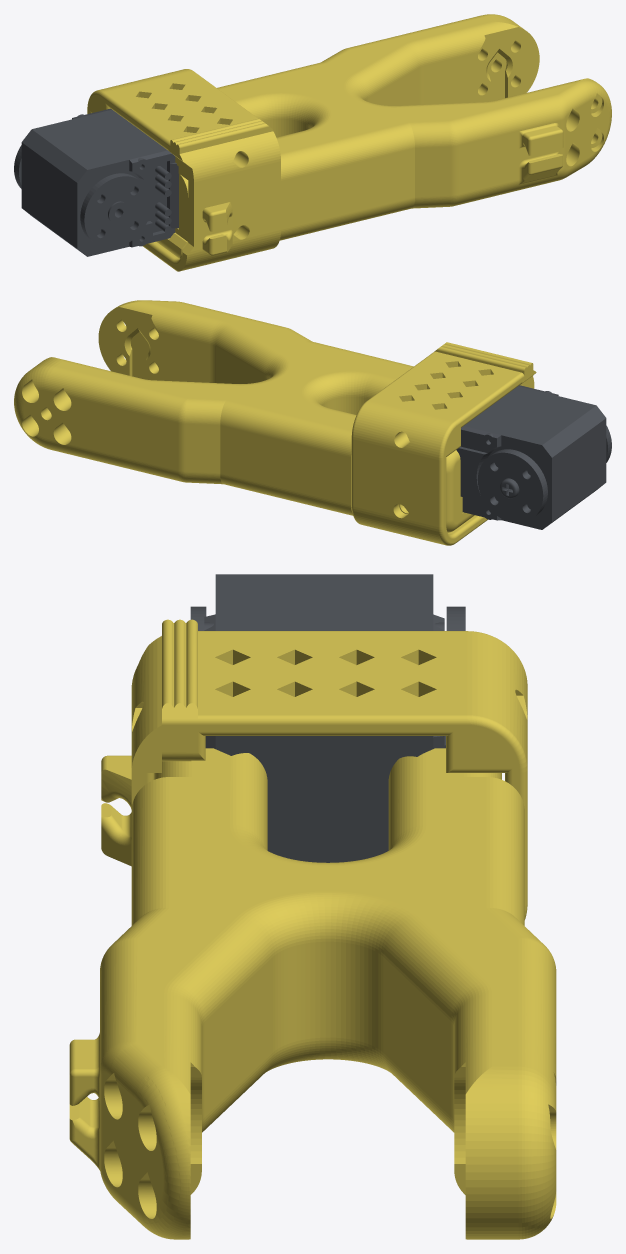
Rendered from lower_arm_link.glb.
3 renders of one model, top to bottom at view 1: azimuth 30°, elevation 25°; view 2: azimuth 150°, elevation 25°; view 3: azimuth 270°, elevation 25°, orthographic. The views are drawn at different scales.
Parts seen in each view (by area): view 1: lower_arm_link_0, lower_arm_link_1, lower_arm_link_2; view 2: lower_arm_link_0, lower_arm_link_1, lower_arm_link_2; view 3: lower_arm_link_0, lower_arm_link_1, lower_arm_link_2.
Boxes of the visible parts, x1,y1,x2,y2 form: lower_arm_link_0: (156, 14, 611, 258); lower_arm_link_1: (87, 69, 280, 271); lower_arm_link_2: (14, 108, 178, 256); lower_arm_link_0: (14, 300, 474, 532); lower_arm_link_1: (351, 342, 536, 545); lower_arm_link_2: (456, 385, 611, 529); lower_arm_link_0: (69, 748, 556, 1239); lower_arm_link_1: (101, 619, 527, 919); lower_arm_link_2: (190, 574, 465, 862).
Size of the model in its own units: 0.1571 by 0.0369 by 0.0644.
